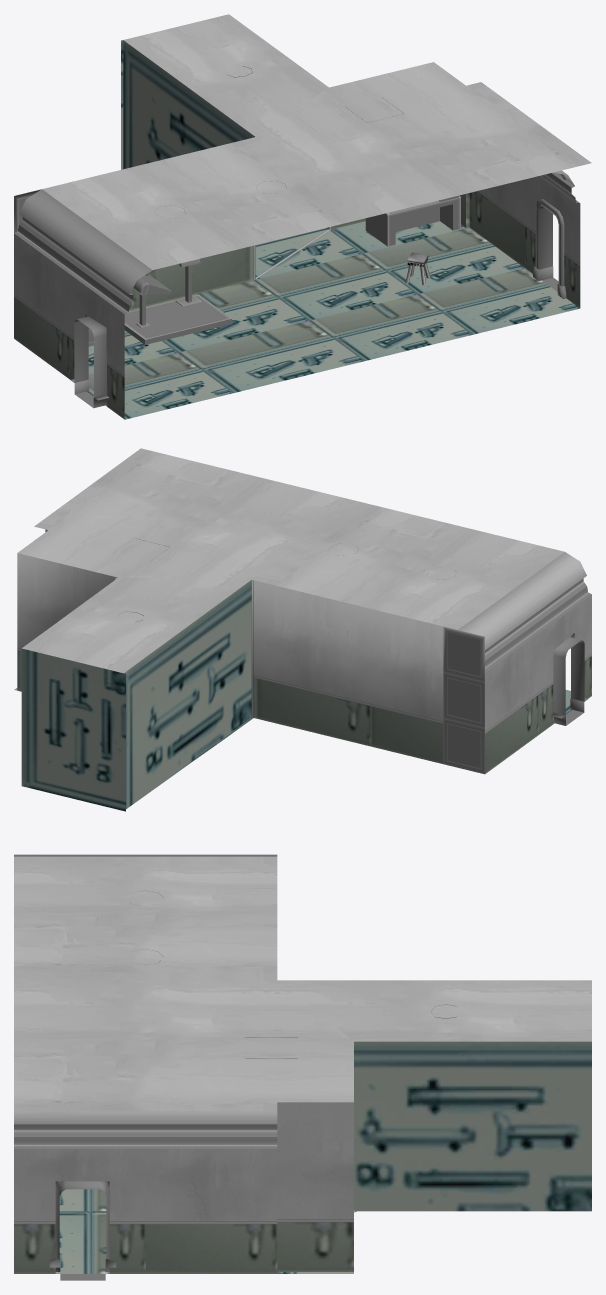
Rendered from MSH_Radio_station_room_L1_R2_optimized.fbx.
3 renders of one model, top to bottom at view 1: azimuth 30°, elevation 25°; view 2: azimuth 150°, elevation 25°; view 3: azimuth 270°, elevation 25°, orthographic. The views are drawn at different scales.
Parts seen in each view (by area): view 1: lightmap1, lightmap0; view 2: lightmap1; view 3: lightmap1.
Part boxes in pixels (x1,y1,x2,y2): lightmap1: (14,14,591,419); lightmap0: (88,66,460,346); lightmap1: (14,448,591,811); lightmap1: (14,854,591,1280).
Bounding box in the file's own units: 20.61 × 5.92 × 18.13.
